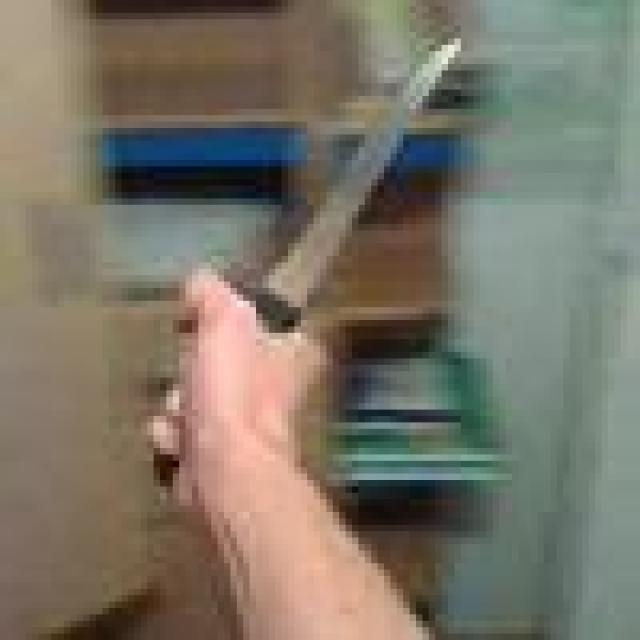faca: (127, 0, 518, 563)
